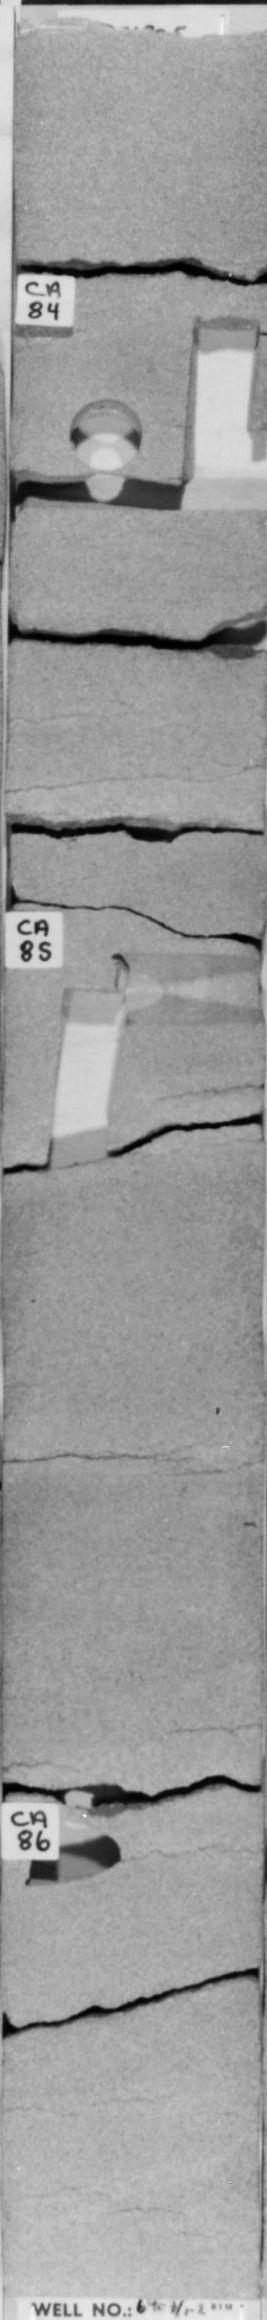hplug: (114, 954, 266, 1031), (18, 1818, 142, 1900), (62, 385, 153, 471)
vplug: (175, 311, 267, 484), (43, 979, 125, 1167)
